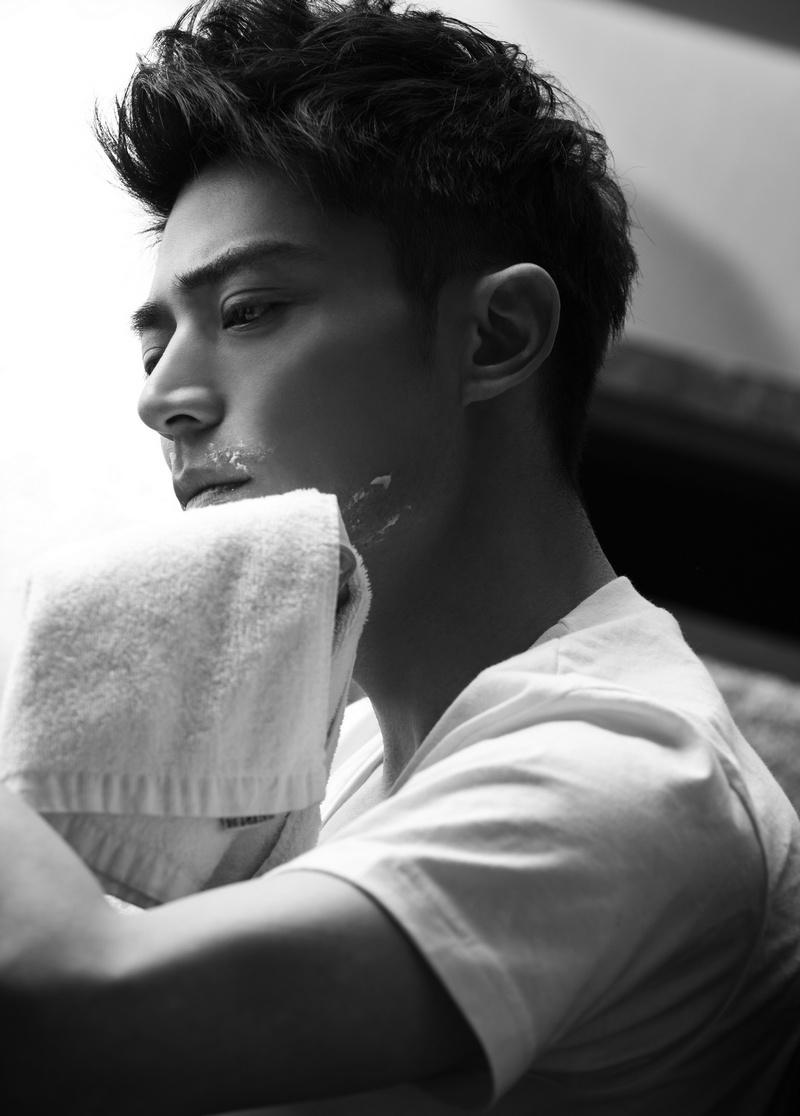face: (131, 186, 421, 638)
